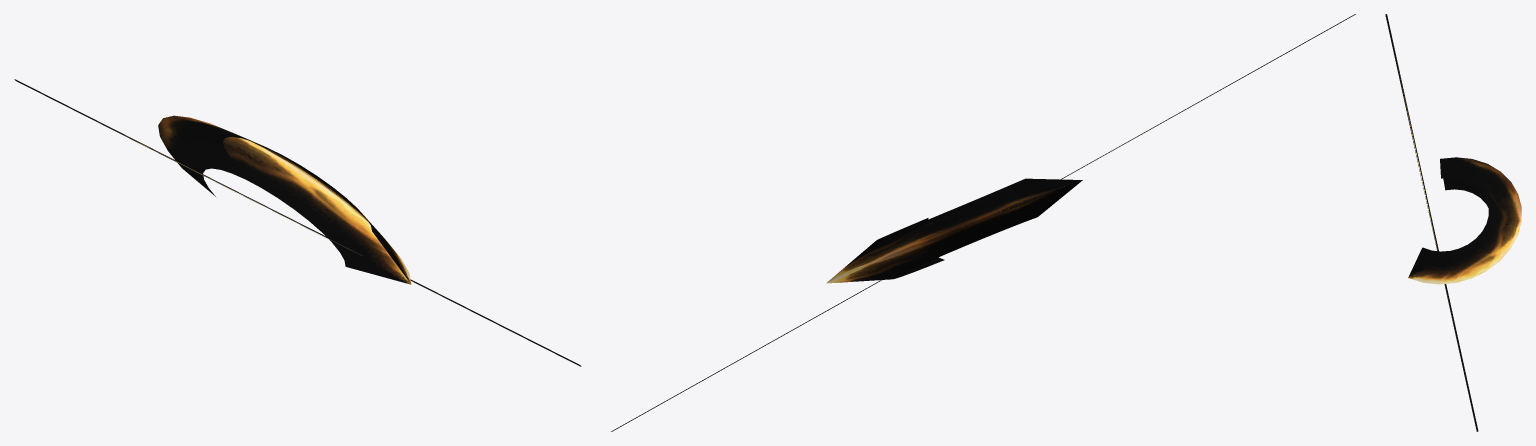
Rendered from attack_2.FBX.
3 renders of one model, left to right at view 1: azimuth 30°, elevation 25°; view 2: azimuth 150°, elevation 25°; view 3: azimuth 270°, elevation 25°, orthographic. The views are drawn at different scales.
Parts seen in each view (by area): view 1: attack_2; view 2: attack_2; view 3: attack_2.
Part boxes in pixels (x1,y1,x2,y2): attack_2: (14, 79, 581, 366); attack_2: (611, 14, 1355, 431); attack_2: (1385, 14, 1521, 431).
Size of the model in its own units: 5.37 by 4.02 by 1.93.
Materials: 2 (2 with a texture image).
